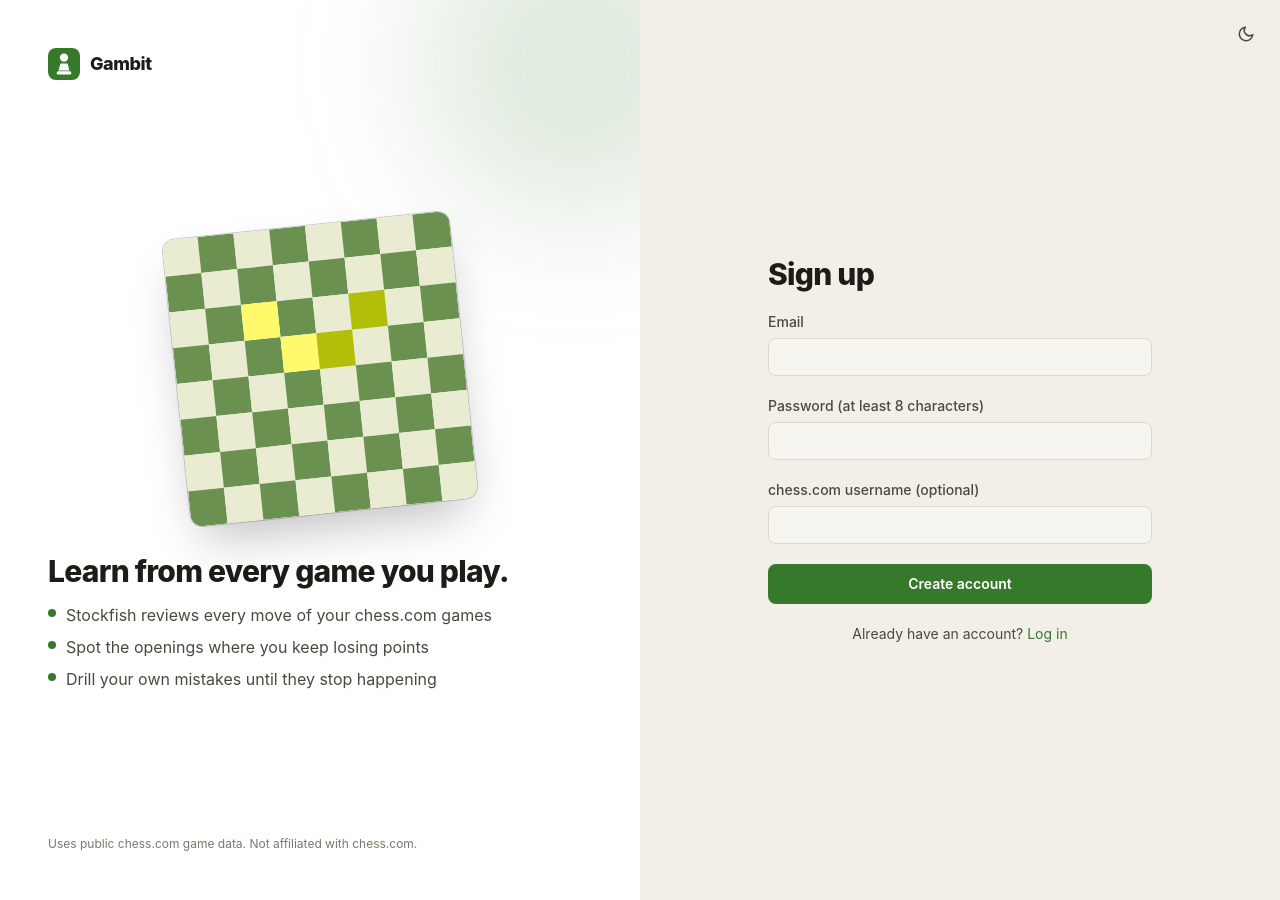
Test case: signup › shows the error when the email is taken
Type "player@example.com" into the field labelled "Email" at {"x": 960, "y": 357}, box [768,338,1152,376]
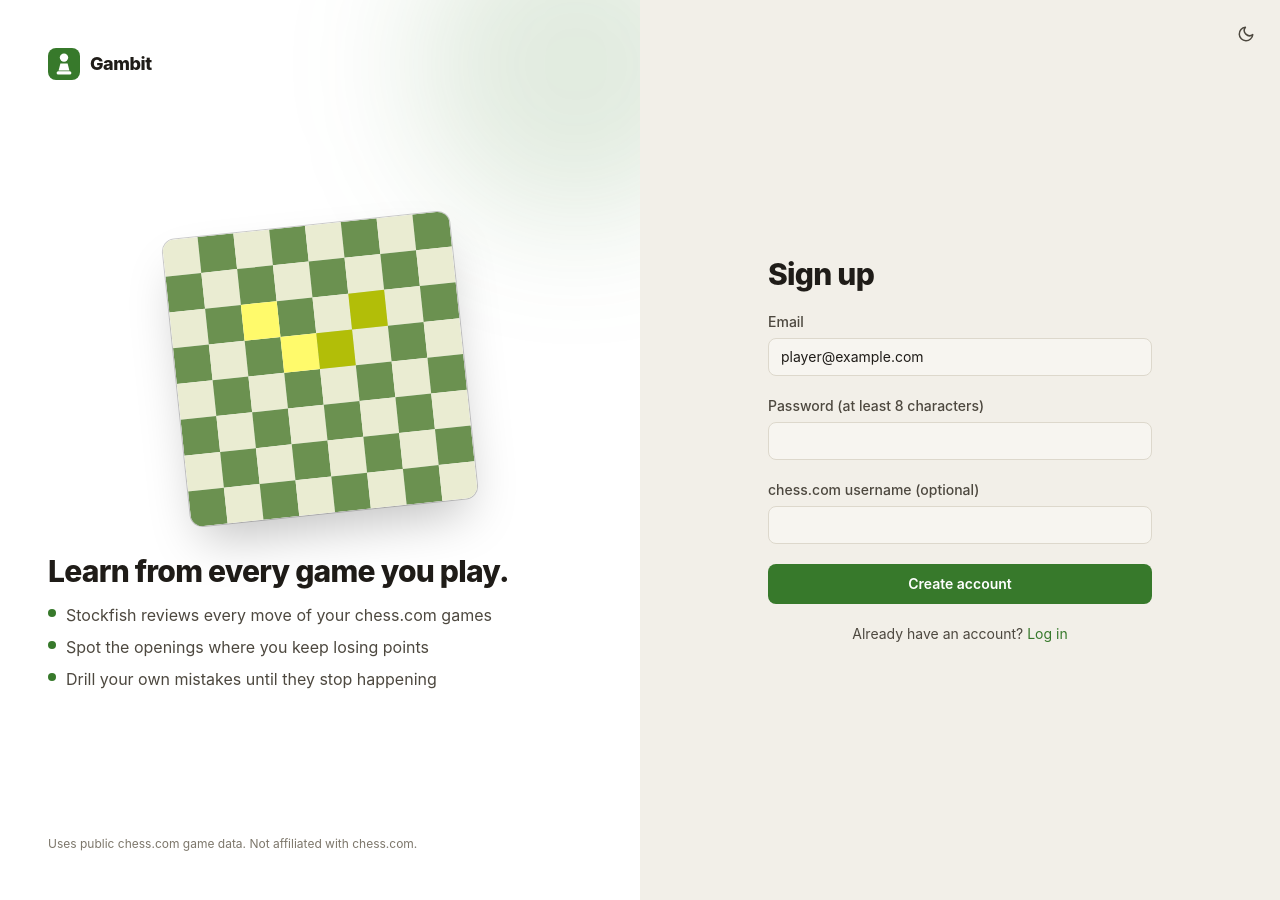
Type "correct-horse-battery" into the password field labelled "Password (at least 8 characters)" at {"x": 960, "y": 441}, box [768,422,1152,460]
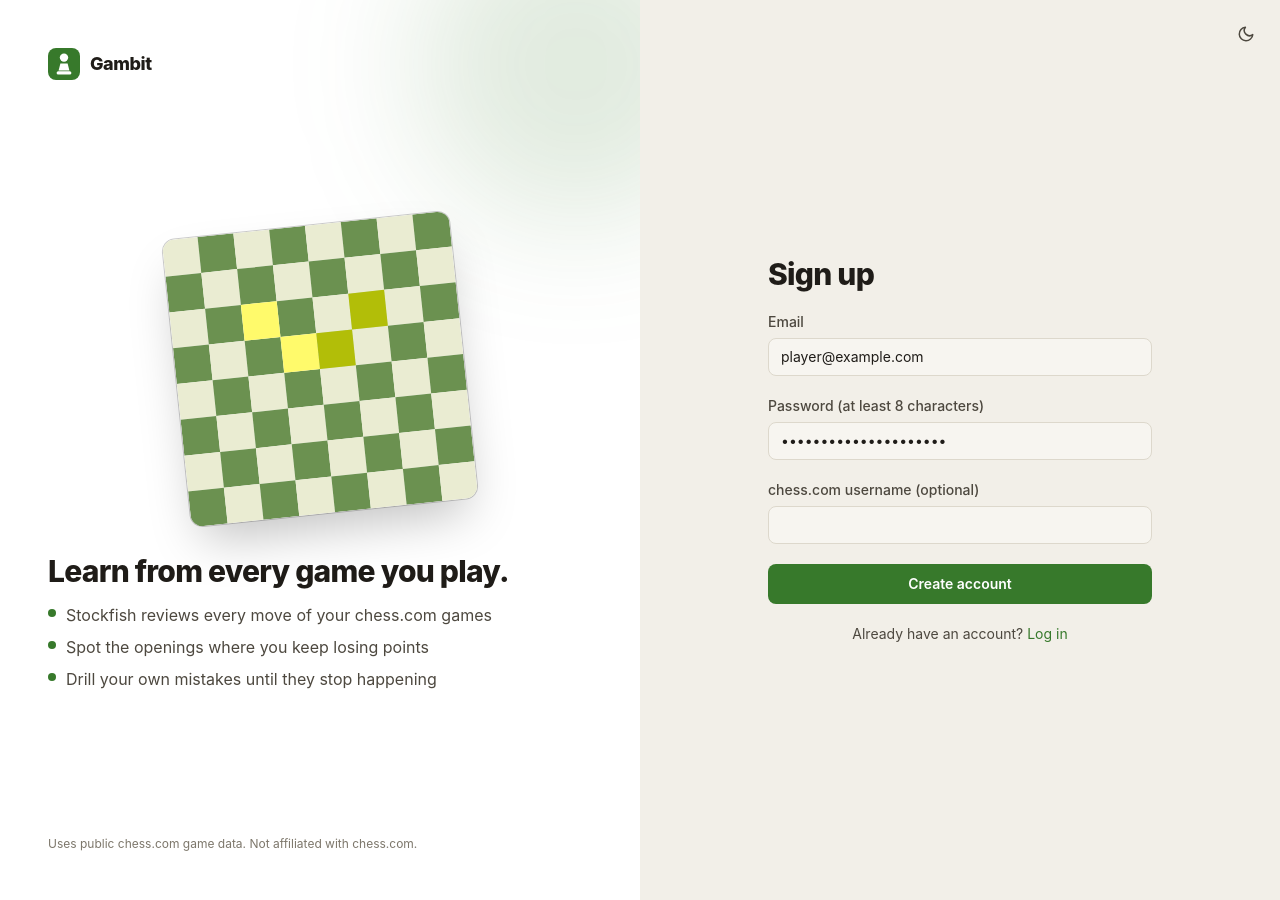
Click the button "Create account" at {"x": 960, "y": 584}, box [768,564,1152,604]
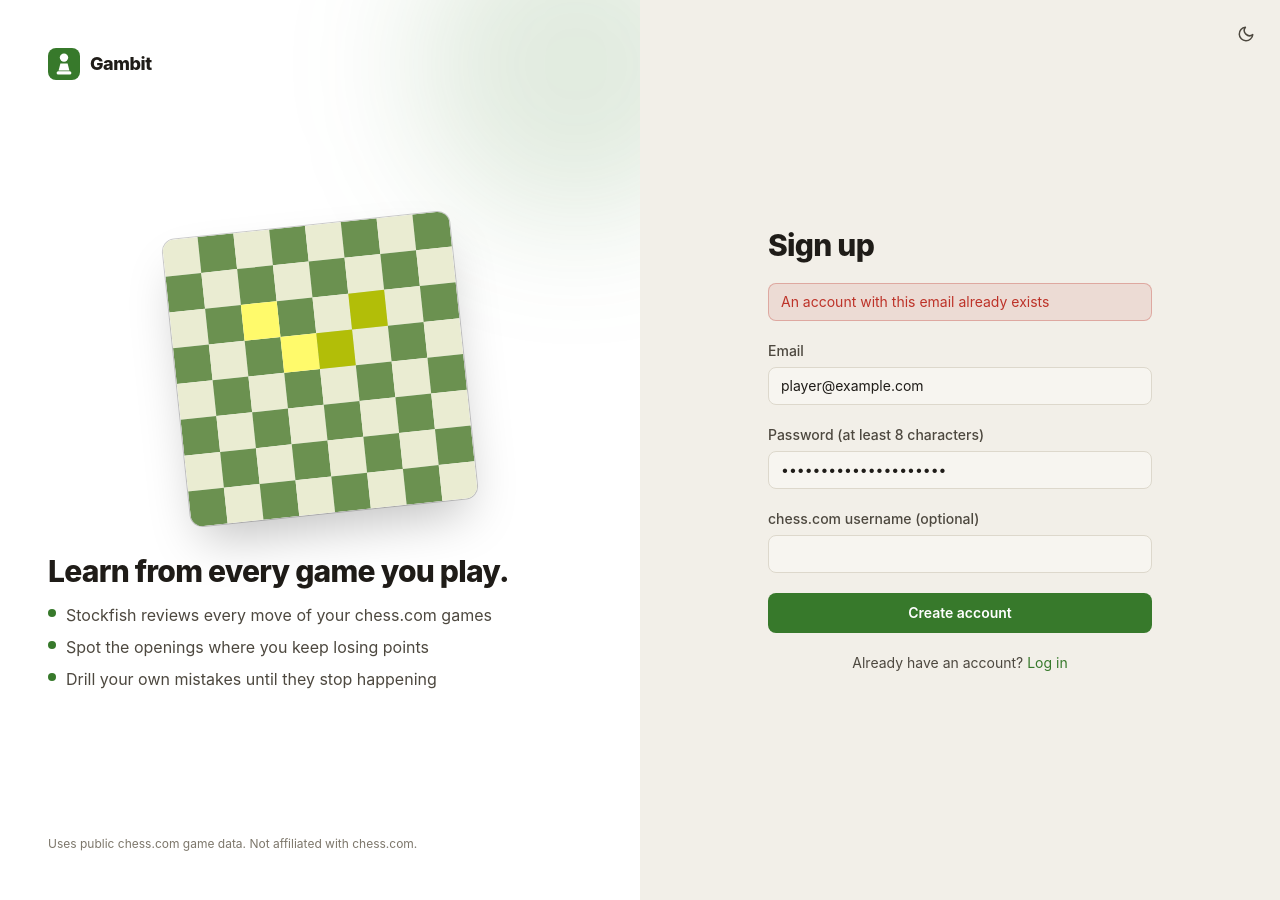
Check: the message shows "already exists", box [781,293,1049,310]
